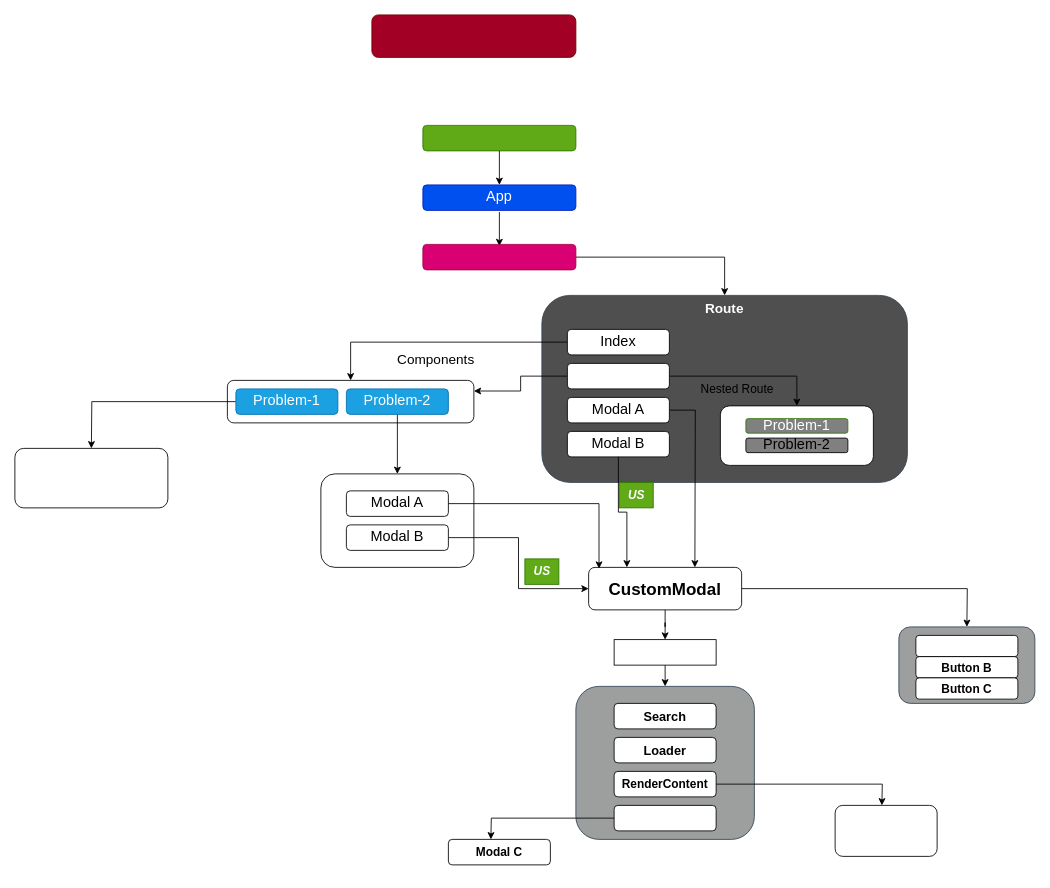
This 1050x888 diagram has some shape labels left out. Each missing label, with the centre of its shape:
"Button A" goes at (966,646).
"ContactBtn" goes at (885,830).
"DetailsModal" goes at (664,818).
"First Task" goes at (91,478).
"GetAllContacts" goes at (664,652).
"Main" goes at (499,138).
"Menu" goes at (618,376).
"Routes" goes at (499,257).
"Task Diagram" goes at (473,35).
